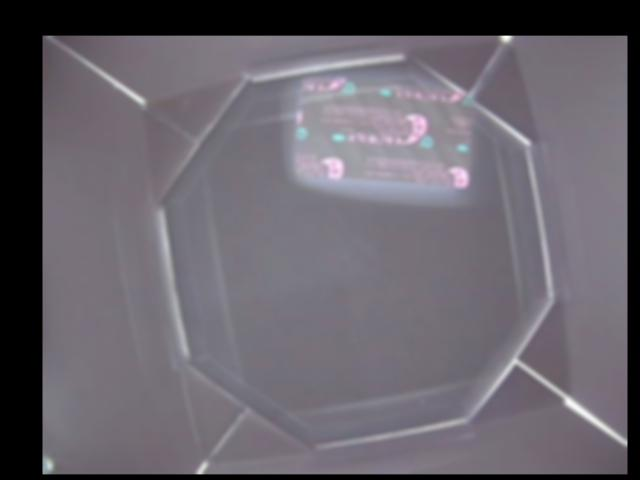Medicine: (292, 74, 474, 189)
